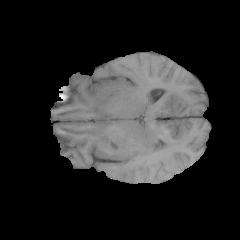glioma: (97, 116, 167, 160)
